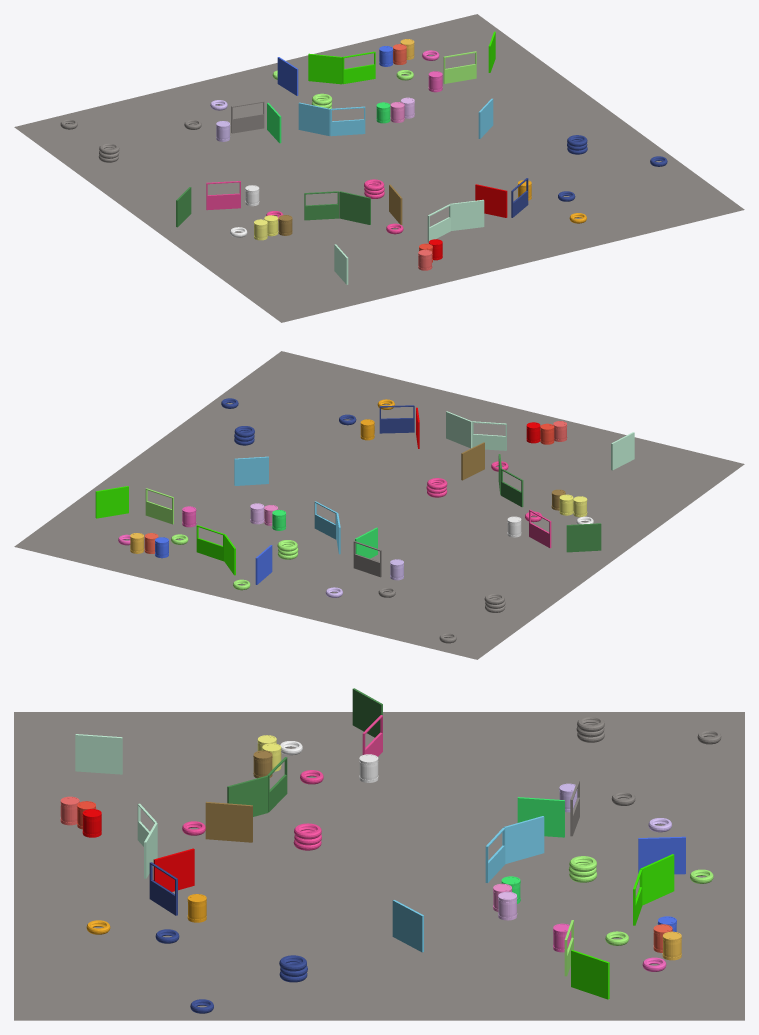
File: map.glb
The picture shows the model from 3 angles, top to bottom: view 1: azimuth 30°, elevation 25°; view 2: azimuth 150°, elevation 25°; view 3: azimuth 270°, elevation 25°; orthographic projection. The views are drawn at different scales.
Parts seen in each view (by area): view 1: Plane; view 2: Plane; view 3: Plane.
Part boxes in pixels (x1,y1,x2,y2): Plane: (14, 14, 744, 322); Plane: (14, 351, 744, 659); Plane: (14, 688, 744, 1020).
Size of the model in its own units: 40 by 2.21 by 40.
